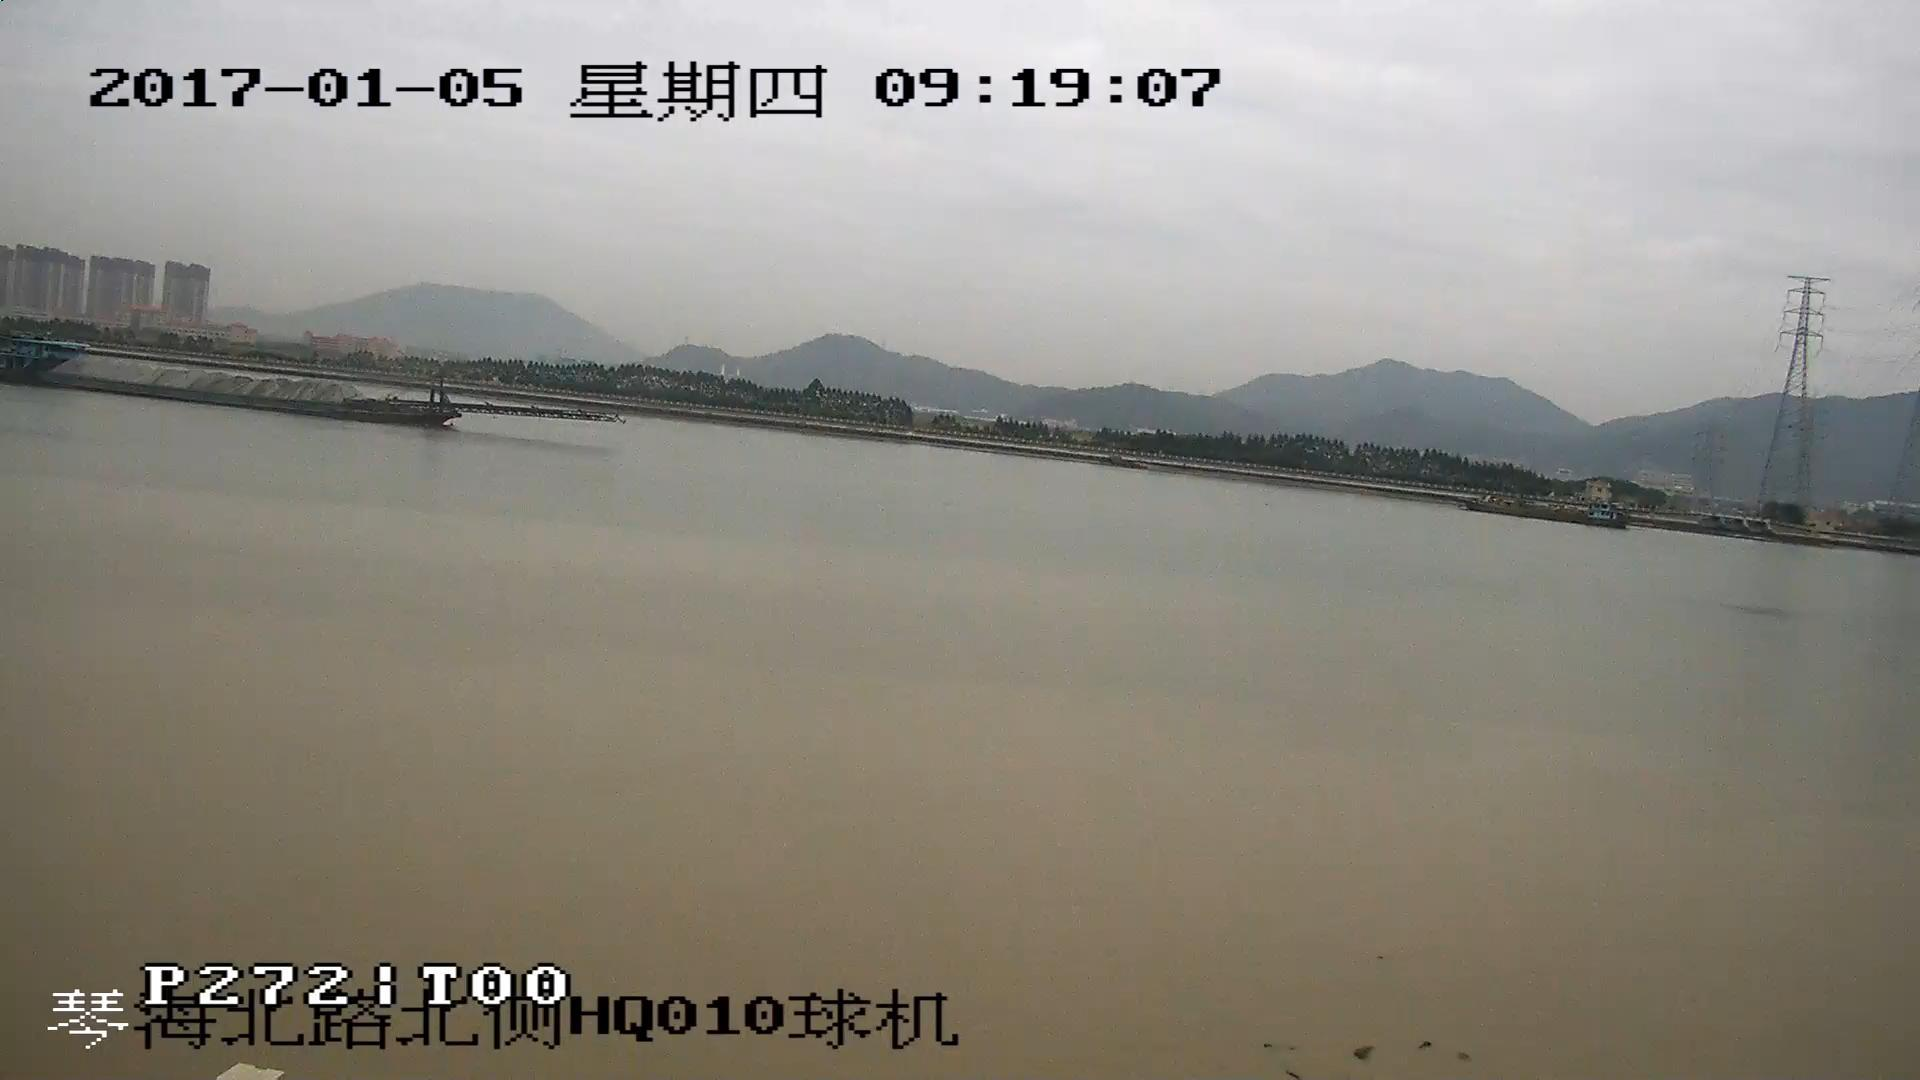Ship: (3, 347, 611, 429)
